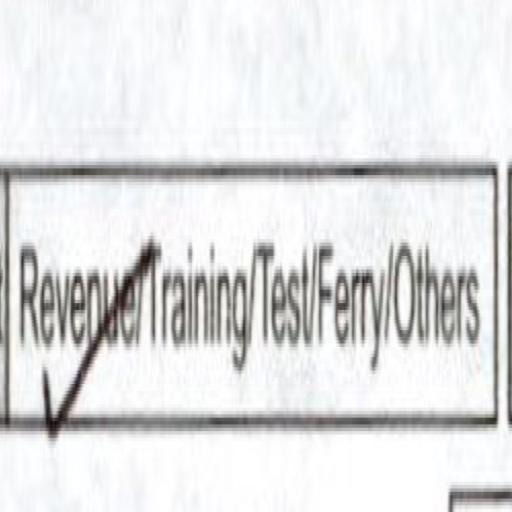check: (18, 143, 138, 469)
